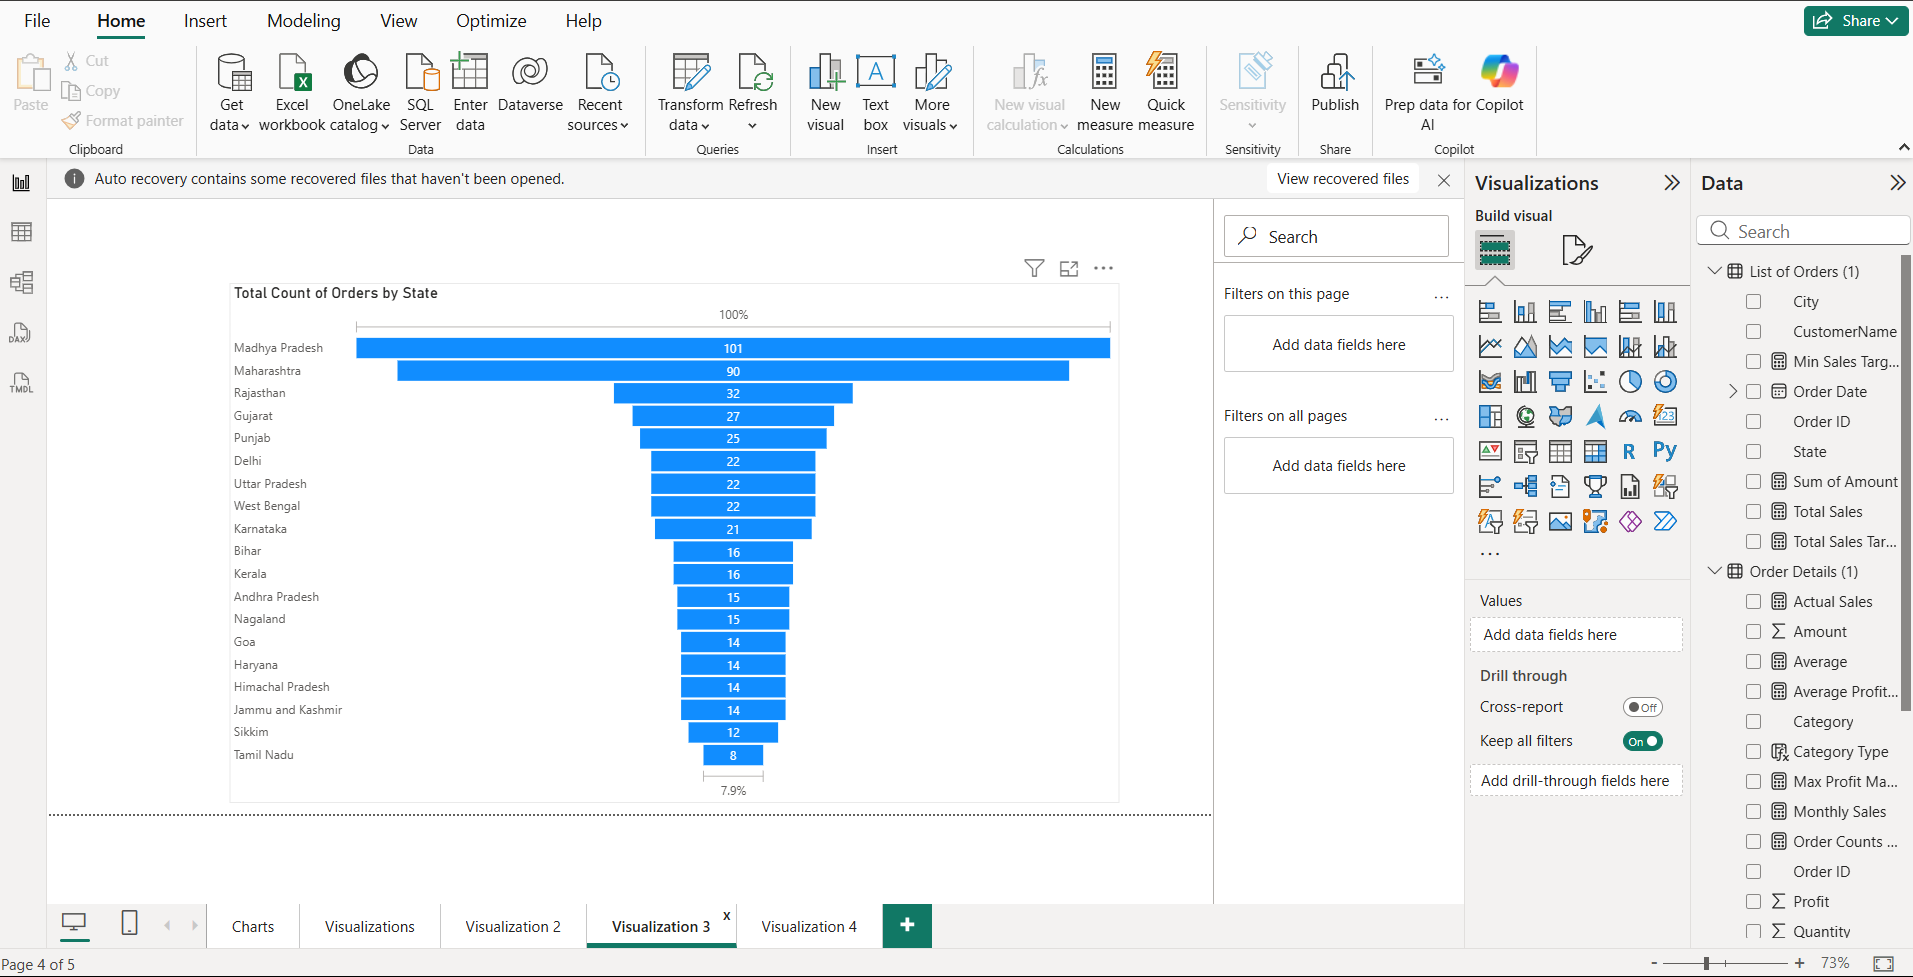

This screenshot's page, from the dashboard's own definition file:
{"tool":"powerbi","page":{"name":"Visualization 3","canvas":[1280,720],"ordinal":3},"visuals":[{"type":"funnel","fields":{"Y":["Order Details (1).Total Count of Orders"],"Category":["List of Orders (1).State"]},"box":[200.3,137.2,977,570.8],"z":0}]}

Visuals, with their boxes on the page's 1280x720 design canvas (x1, y1, x2, y2). These are canvas units, not pixel positions in the 1913x977 screenshot, which may show the page scaled, cropped or inside an application window:
funnel - Order Details (1).Total Count of Orders x List of Orders (1).State: bbox=(200, 137, 1177, 708)
